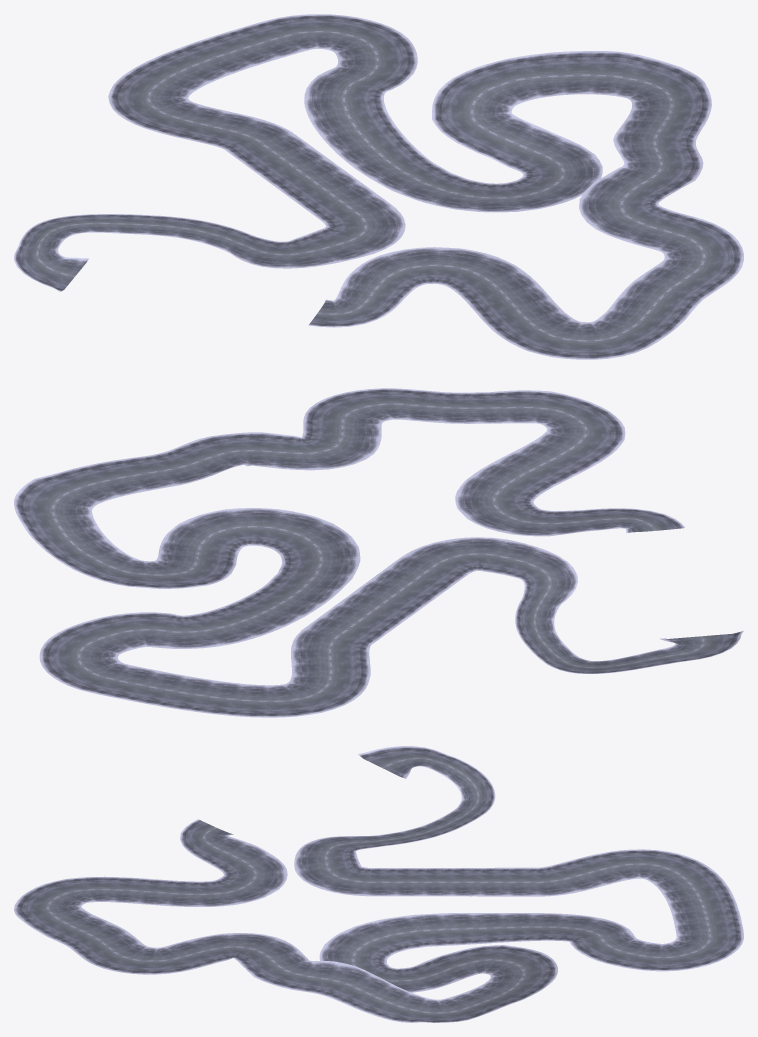
File: Track2Roads.fbx
The picture shows the model from 3 angles, top to bottom: view 1: azimuth 30°, elevation 25°; view 2: azimuth 150°, elevation 25°; view 3: azimuth 270°, elevation 25°; orthographic projection. The views are drawn at different scales.
Visible parts, largest first — view 1: Track2Road; view 2: Track2Road; view 3: Track2Road.
Boxes of the visible parts, box(x1,y1,x2,y2) form: Track2Road: box(14, 14, 743, 359); Track2Road: box(14, 388, 743, 717); Track2Road: box(14, 746, 743, 1022).
Bounding box in the file's own units: 29999 × 1505 × 32244.
